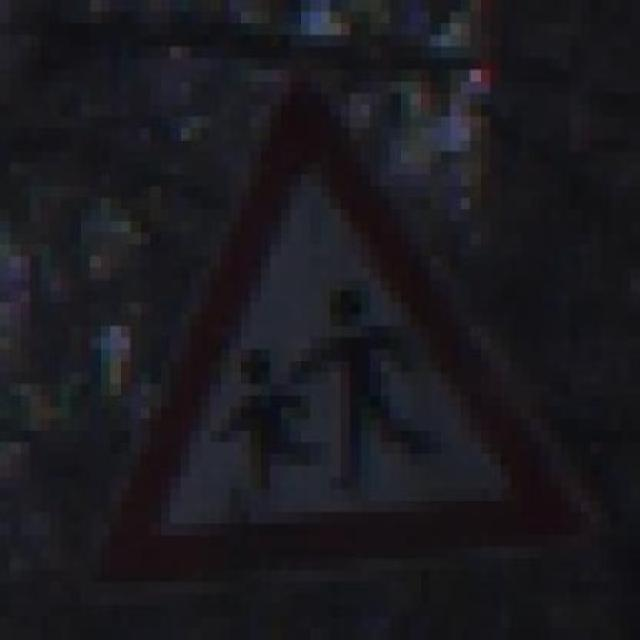Beware of children: (79, 70, 610, 582)
